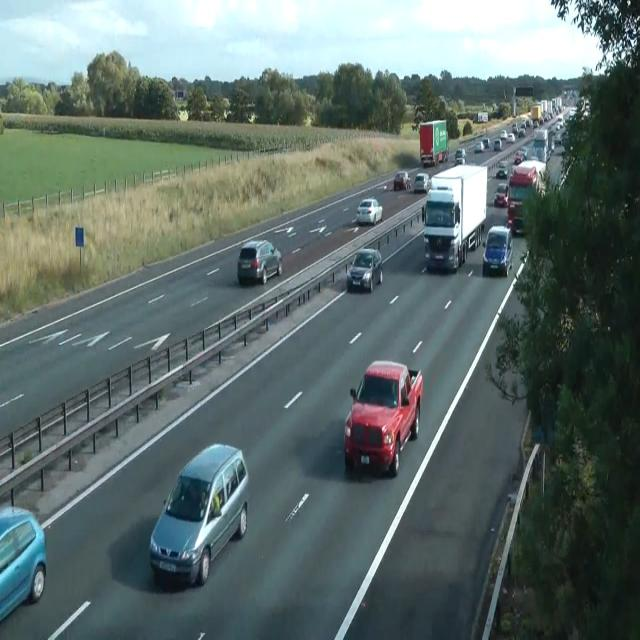bus: (0, 504, 46, 622), (236, 239, 282, 285), (346, 247, 383, 293), (356, 196, 382, 226), (393, 171, 411, 190), (414, 172, 431, 192), (494, 183, 508, 207), (514, 146, 527, 164), (496, 161, 508, 178), (455, 148, 467, 164), (474, 140, 484, 153), (494, 139, 502, 151), (507, 132, 515, 143), (482, 137, 490, 148), (500, 129, 508, 139)
jeep: (149, 442, 249, 586), (343, 359, 423, 477), (482, 224, 513, 276)
minibus: (422, 163, 488, 272), (507, 159, 548, 235), (419, 119, 449, 166), (533, 128, 551, 163), (473, 111, 488, 123)
